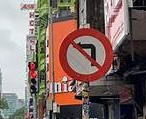No_turn_left: (58, 28, 115, 84)
